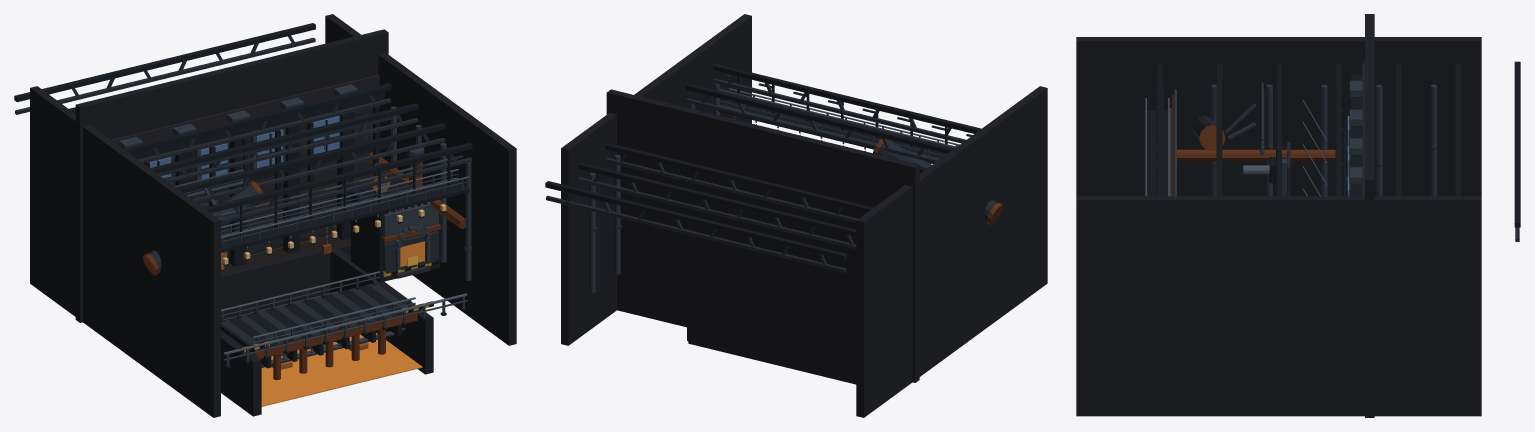
File: forge_hall.glb
3 renders of one model, left to right at view 1: azimuth 30°, elevation 25°; view 2: azimuth 150°, elevation 25°; view 3: azimuth 270°, elevation 25°, orthographic. The views are drawn at different scales.
Visible parts, largest first — view 1: WallLeft, WallRight, BackWall, TrussChord, TrussChordLow, BackBrick, Lava, PitBack, CatDeck, BridgeDeck, PitRight, BackPier (+32 smaller); view 2: BackWall, WallLeft, WallRight, TrussChord, TrussChordLow, PitBack, TrussDiag, CatDeck, WallPipe, CatPipeB, BigPipe, CatRailTop1; view 3: WallRight, WallLeft, TrussChord, BackWall, WallPipe, WallDuct-1, CatDeck, BackPierCap, BackLintel, BigPipeCapB, CatPipeB.
Part boxes in pixels (bbox=[...]): WallLeft: bbox=[30, 86, 220, 417]; WallRight: bbox=[325, 14, 516, 345]; BackWall: bbox=[75, 29, 388, 322]; TrussChord: bbox=[14, 23, 472, 212]; TrussChordLow: bbox=[15, 37, 472, 222]; BackBrick: bbox=[111, 74, 379, 272]; Lava: bbox=[261, 333, 422, 406]; PitBack: bbox=[221, 247, 334, 319]; CatDeck: bbox=[221, 180, 469, 252]; BridgeDeck: bbox=[221, 282, 416, 352]; PitRight: bbox=[330, 246, 433, 374]; BackPier: bbox=[175, 112, 353, 266]; BackWall: bbox=[606, 89, 919, 382]; WallLeft: bbox=[856, 86, 1047, 417]; WallRight: bbox=[561, 14, 751, 345]; TrussChord: bbox=[545, 63, 981, 260]; TrussChordLow: bbox=[546, 78, 966, 272]; PitBack: bbox=[688, 328, 856, 384]; TrussDiag: bbox=[566, 75, 951, 264]; CatDeck: bbox=[718, 100, 944, 163]; WallPipe: bbox=[590, 83, 719, 292]; CatPipeB: bbox=[719, 89, 956, 148]; BigPipe: bbox=[878, 140, 997, 219]; CatRailTop1: bbox=[728, 88, 959, 145]; WallRight: bbox=[1076, 196, 1481, 416]; WallLeft: bbox=[1076, 37, 1481, 196]; TrussChord: bbox=[1157, 61, 1520, 227]; BackWall: bbox=[1365, 14, 1374, 417]; WallPipe: bbox=[1163, 84, 1437, 196]; WallDuct-1: bbox=[1177, 149, 1335, 160]; CatDeck: bbox=[1144, 110, 1167, 196]; BackPierCap: bbox=[1349, 80, 1362, 184]; BackLintel: bbox=[1350, 74, 1362, 196]; BigPipeCapB: bbox=[1199, 125, 1225, 151]; CatPipeB: bbox=[1173, 89, 1176, 196].
Bounding box in the file's own units: 33.79 × 25.2 × 37.25.
